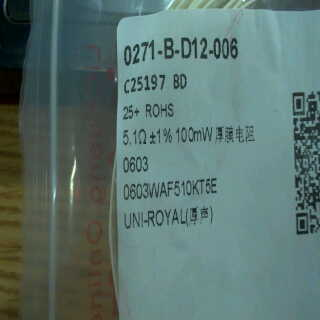5.1R: (120, 124, 148, 153)
